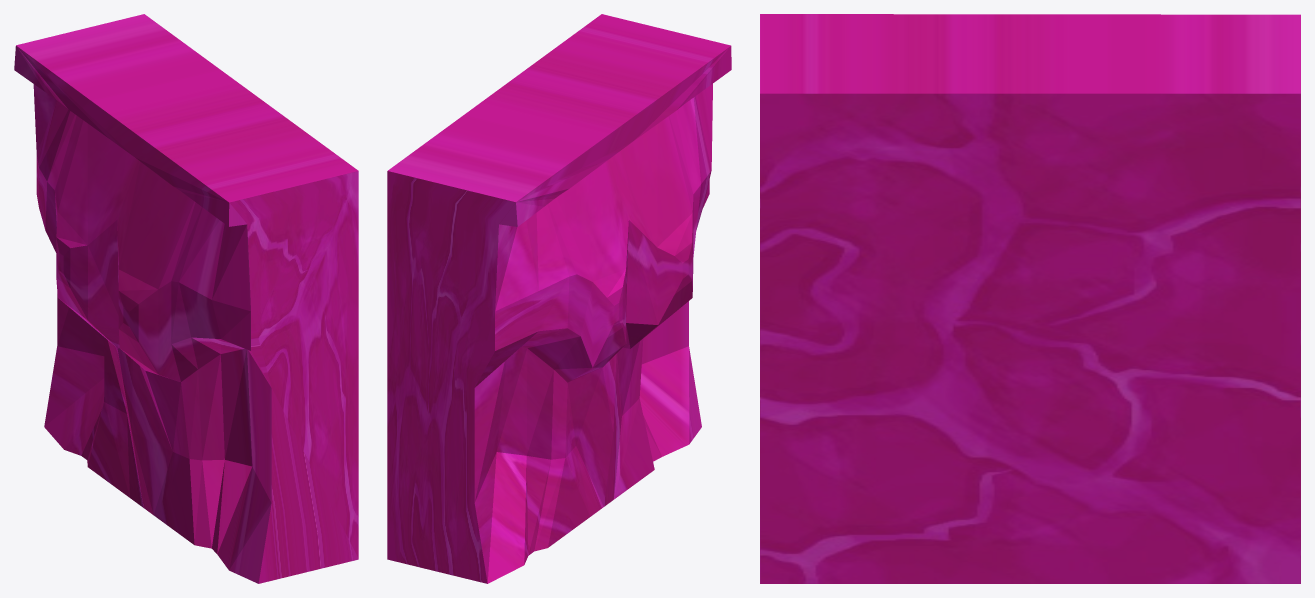
File: EspacioPornoParedExteriorNS.gltf
3 views of the same model, side by side, from view 1: azimuth 30°, elevation 25°; view 2: azimuth 150°, elevation 25°; view 3: azimuth 270°, elevation 25° (orthographic). The views are drawn at different scales.
Visible parts, largest first — view 1: Cubo.24; view 2: Cubo.24; view 3: Cubo.24.
Boxes of the visible parts, <box> form: Cubo.24: <box>14,14,358,583</box>; Cubo.24: <box>387,14,731,583</box>; Cubo.24: <box>760,14,1300,583</box>.
Bounding box in the file's own units: 0.8524 × 2 × 2.
1 material, 1 textured.
